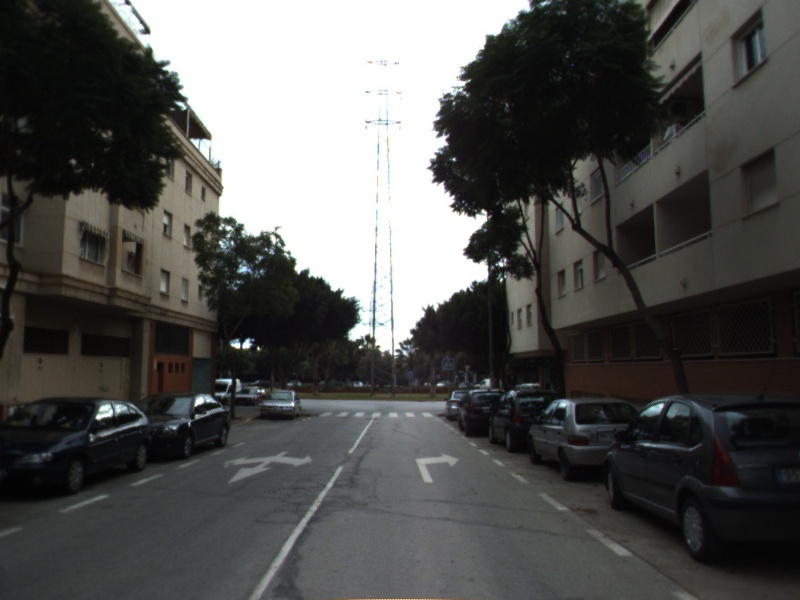RIGHT: (414, 451, 462, 485)
